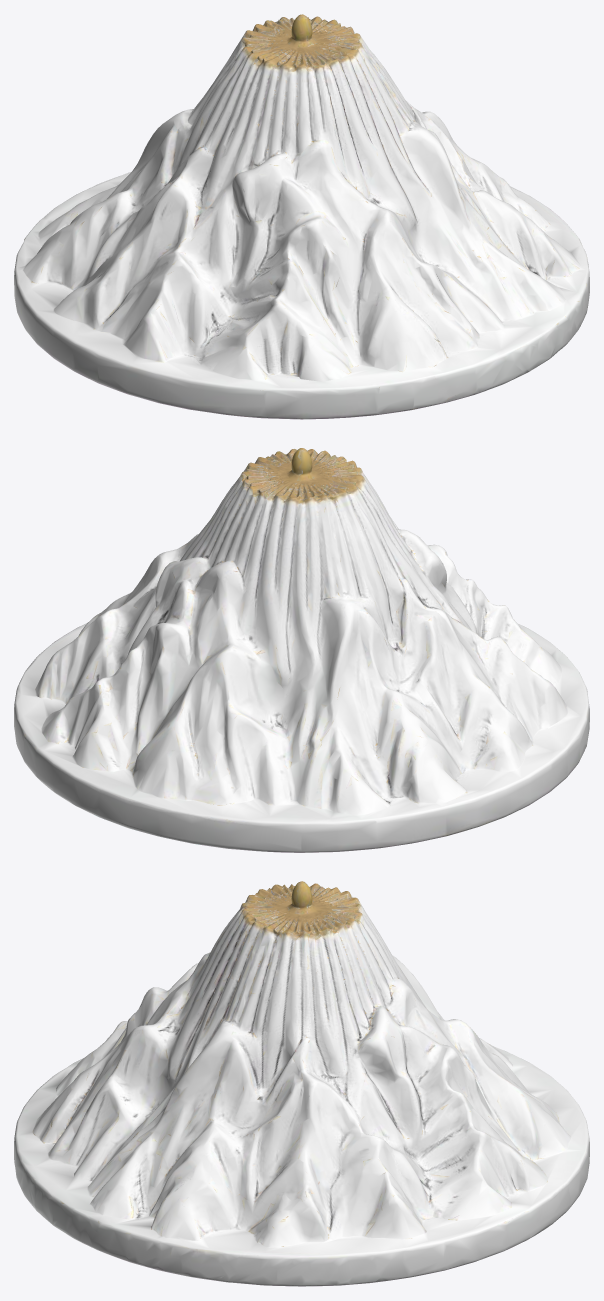
Rendered from kilimanjaro.glb.
3 views of the same model, one above another, from view 1: azimuth 30°, elevation 25°; view 2: azimuth 150°, elevation 25°; view 3: azimuth 270°, elevation 25° (orthographic).
Parts seen in each view (by area): view 1: Mesh_0; view 2: Mesh_0; view 3: Mesh_0.
Boxes of the visible parts, <box> form: Mesh_0: <box>14,14,589,419</box>; Mesh_0: <box>14,448,589,852</box>; Mesh_0: <box>14,881,589,1286</box>.
Bounding box in the file's own units: 1.9 × 1.04 × 1.9.
1 material, 1 textured.
